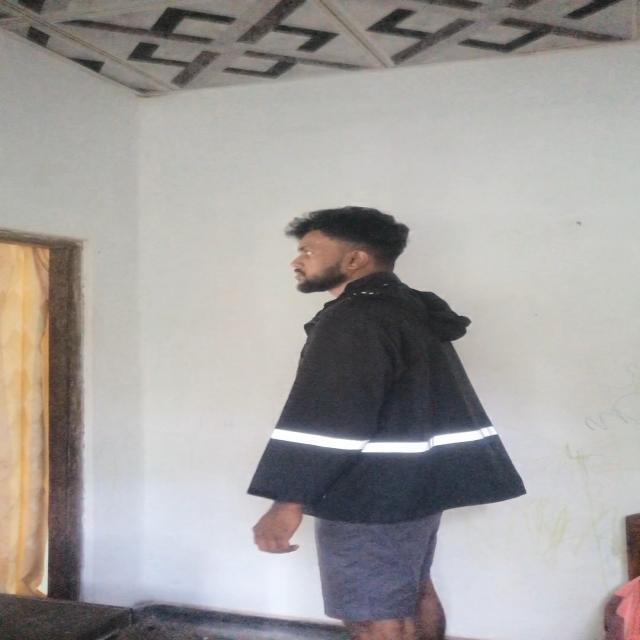Jacket_Wearer: (253, 282, 545, 532)
